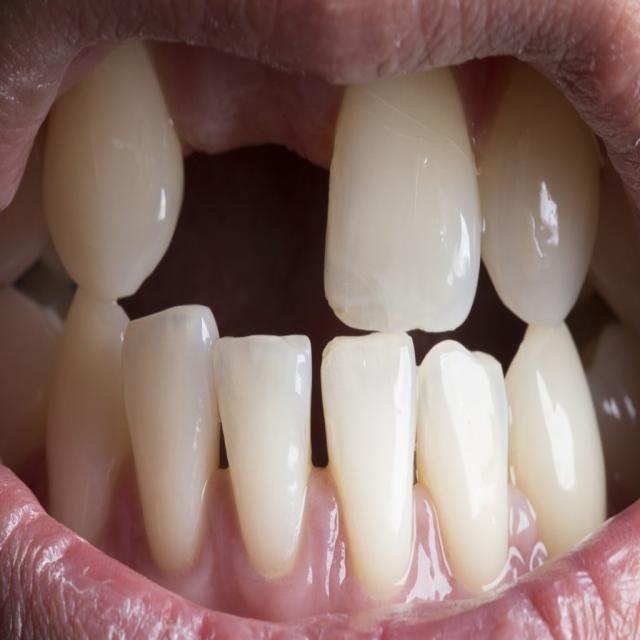Gap: (267, 340, 355, 502), (178, 388, 253, 509)
Missing: (80, 55, 453, 312)
